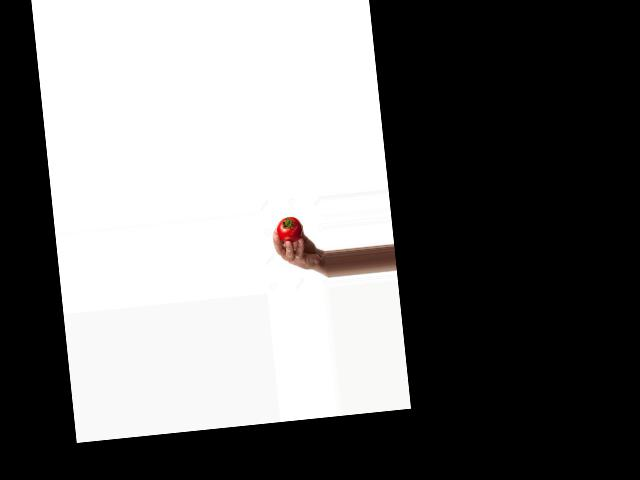tomato: (276, 215, 303, 243)
